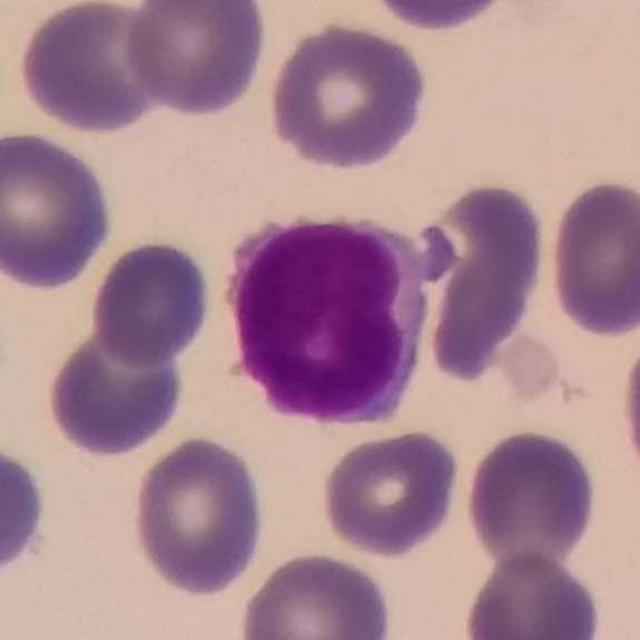Lymphocyte: (219, 208, 435, 432)
RBC: (413, 176, 550, 388), (266, 18, 432, 172), (127, 432, 268, 600), (15, 0, 168, 136), (461, 425, 601, 571), (44, 322, 190, 460), (317, 426, 464, 560), (0, 126, 117, 294), (120, 0, 271, 119), (87, 235, 216, 369), (544, 175, 640, 342), (234, 547, 396, 640), (460, 547, 604, 640), (0, 438, 53, 585), (361, 0, 522, 35), (616, 318, 640, 494)
